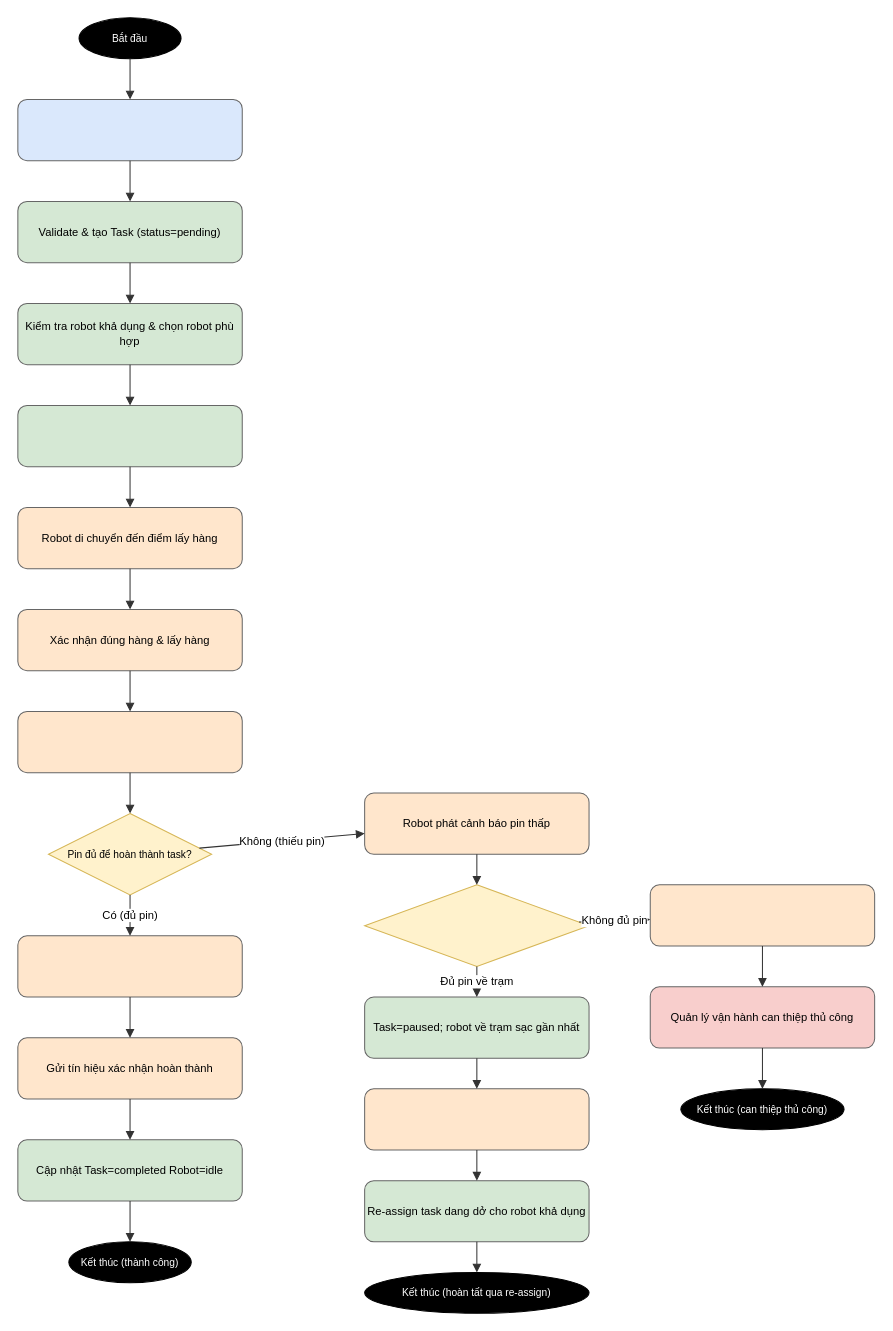
Image size: 893x1331. Some labels were removed from this diagram. Here are the shapes that lost their labels. From the top down, the centre of each, then its label:
the point at 129,129: Tạo yêu cầu vận chuyển (Nhân viên kho / WMS)
the point at 129,435: Gán task, gửi lệnh di chuyển
the point at 129,741: Robot di chuyển đến điểm giao hàng
the point at 476,925: Đủ pin về trạm sạc gần nhất?
the point at 762,915: Robot dừng tại chỗ, cảnh báo khẩn cấp
the point at 129,966: Giao hàng, hạ hàng tại điểm đích
the point at 476,1119: Sạc đến ngưỡng tối thiểu → Robot=idle
